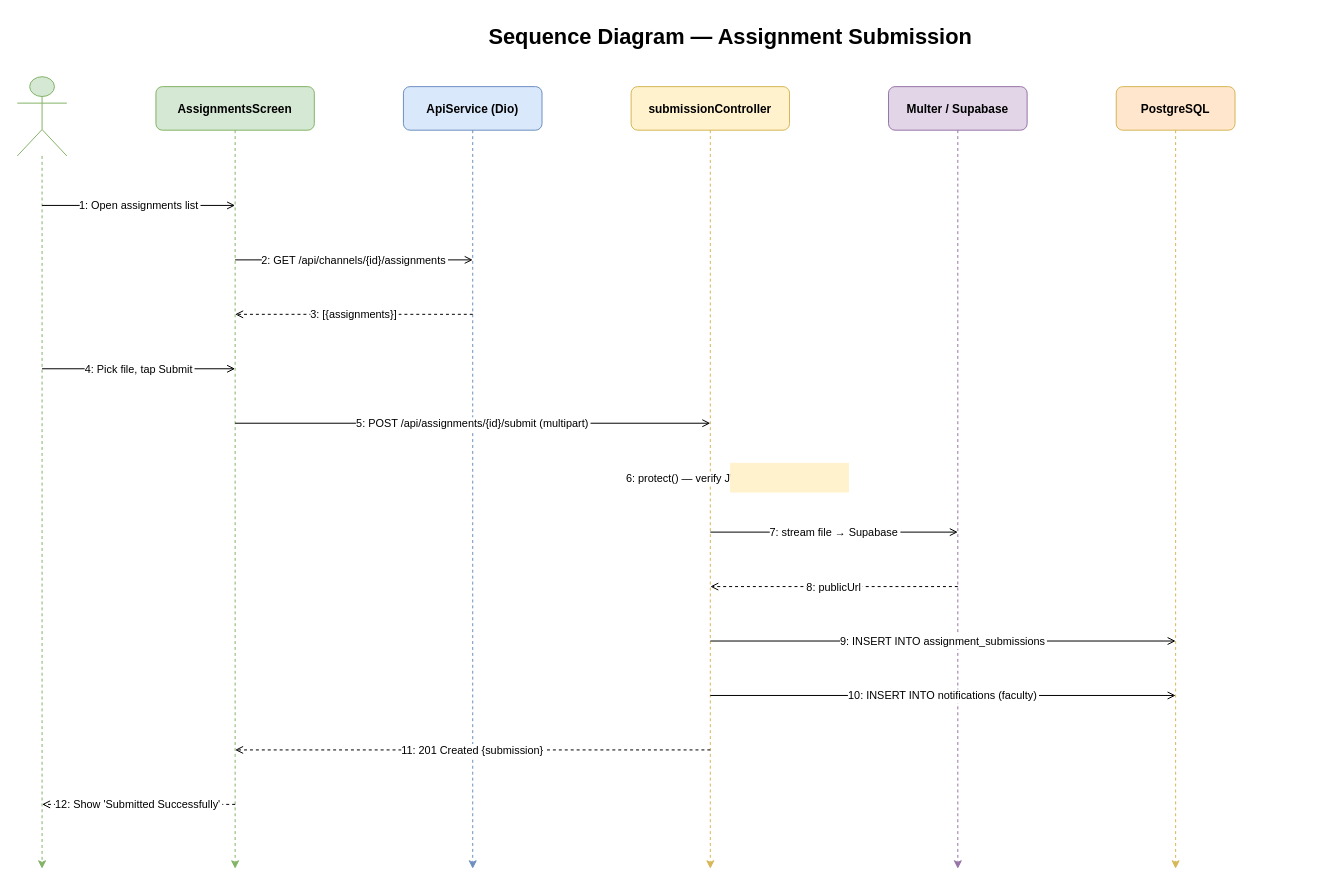
Image size: 1341x894. Some labels were removed from this diagram. The shapes that lost their labels are listed below. From the top down, each one's centre as x and y in pixels, then its label:
(41,116): Student
(789,477): [middleware]
